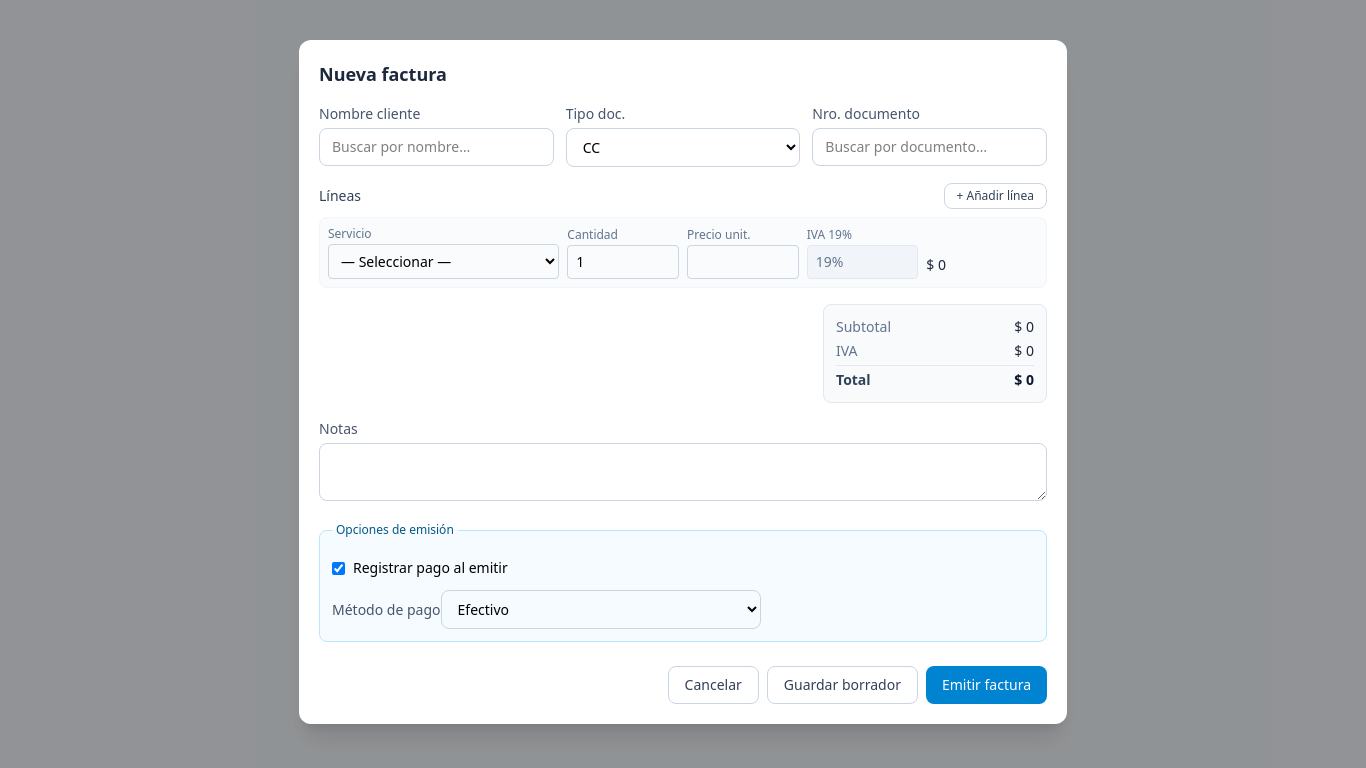
Test: FacturaEditor › muestra error si falla guardarBorradorFactura
Type "Cliente Prueba" into the field with placeholder "Buscar por nombre…".
click(436, 147); type("Cliente Prueba")  # box [319,128,554,166]
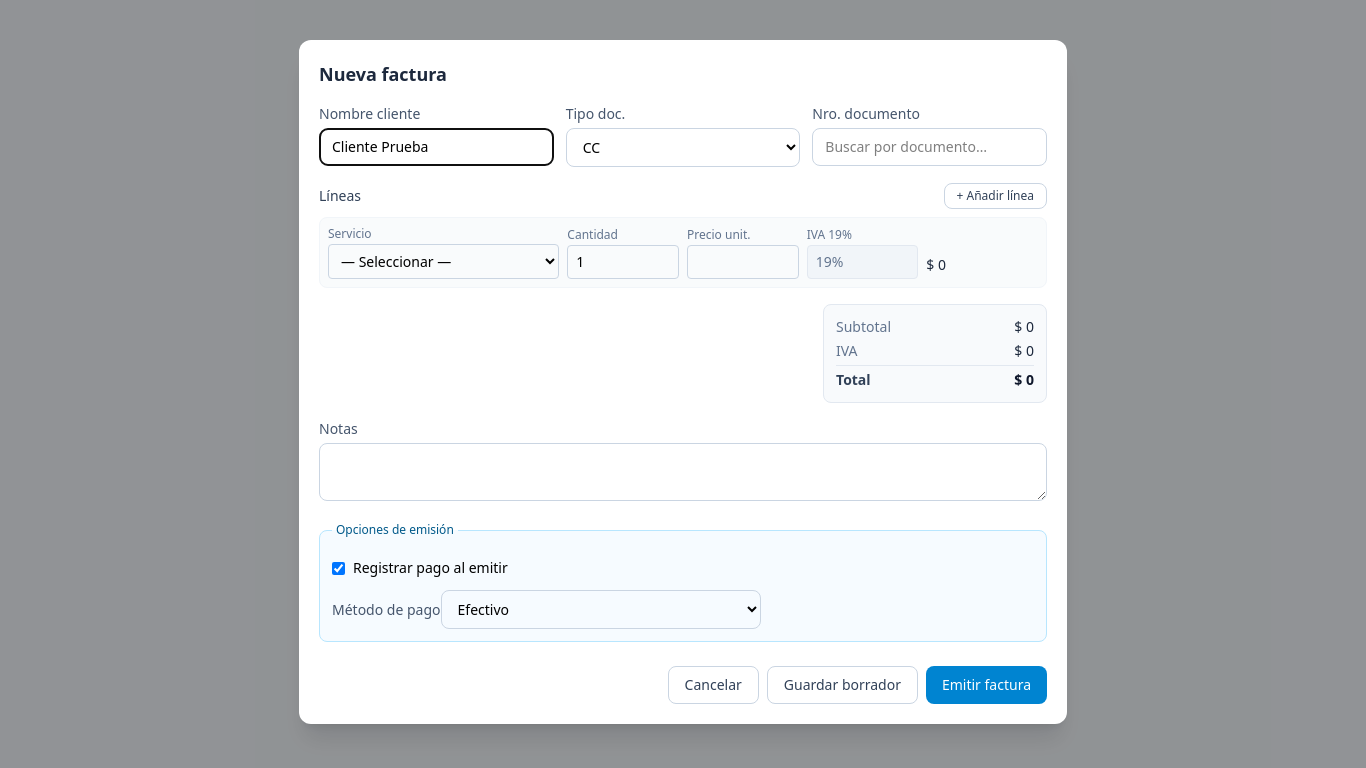
Type "445566" into the field with placeholder "Buscar por documento…".
click(930, 147); type("445566")  # box [812,128,1047,166]
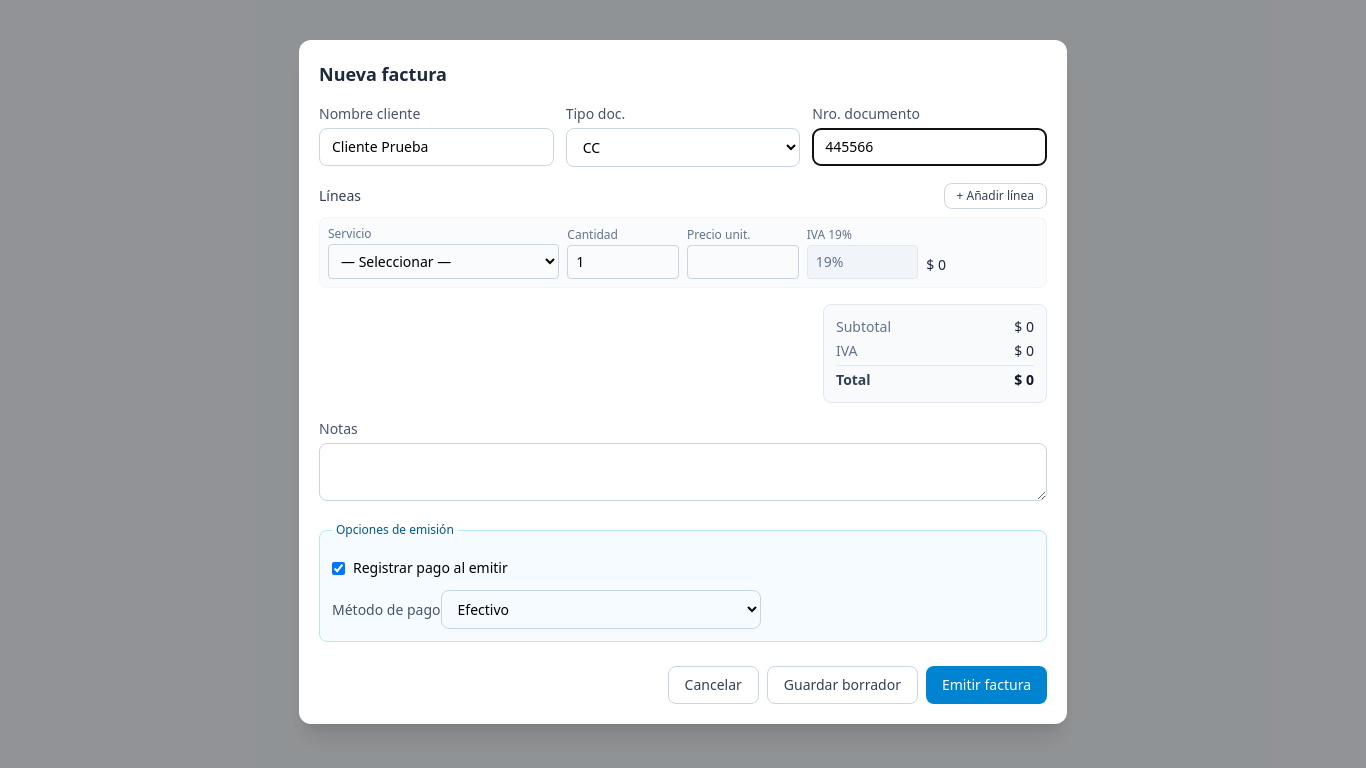
Select "Servicio A" in the dropdown showing "— Seleccionar —" at (444,262), box [328,244,559,279]
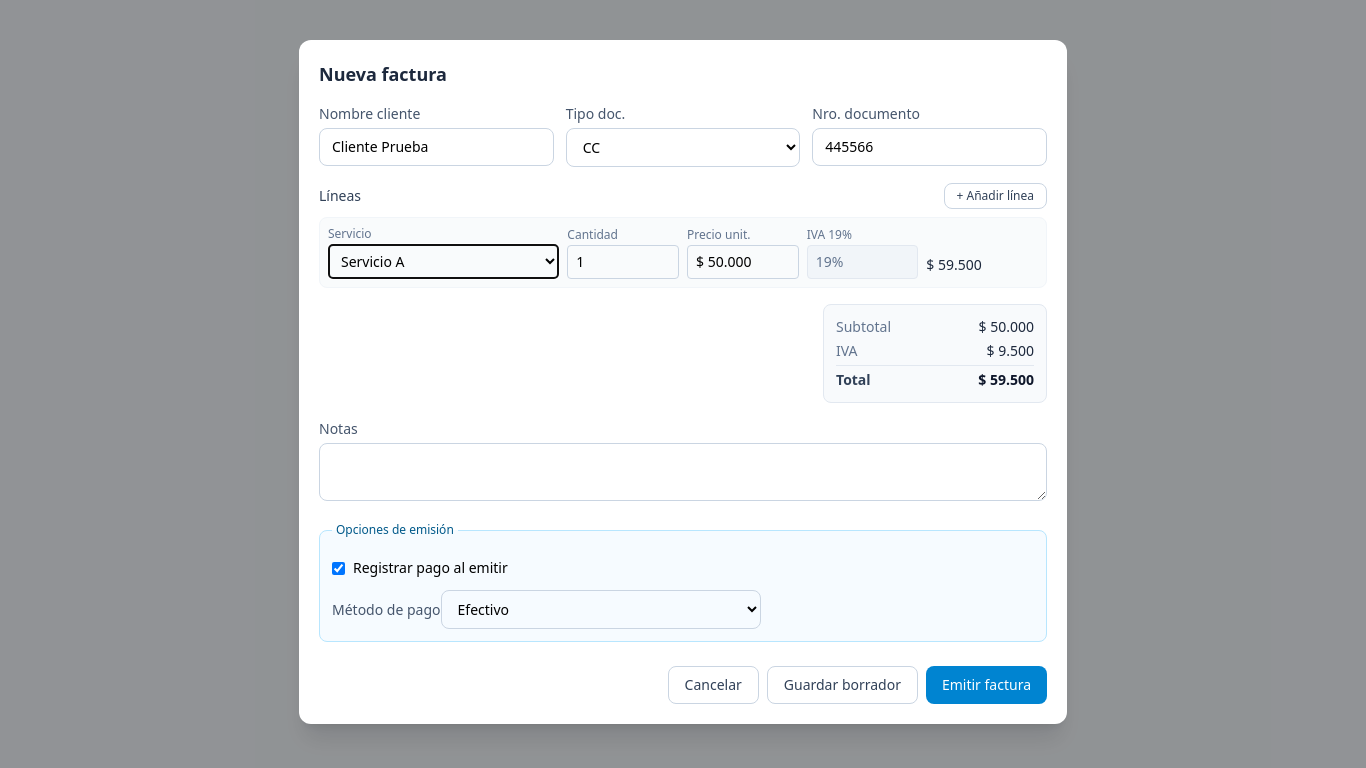
Click the button "Guardar borrador".
click(842, 685)  # box [767,666,918,704]
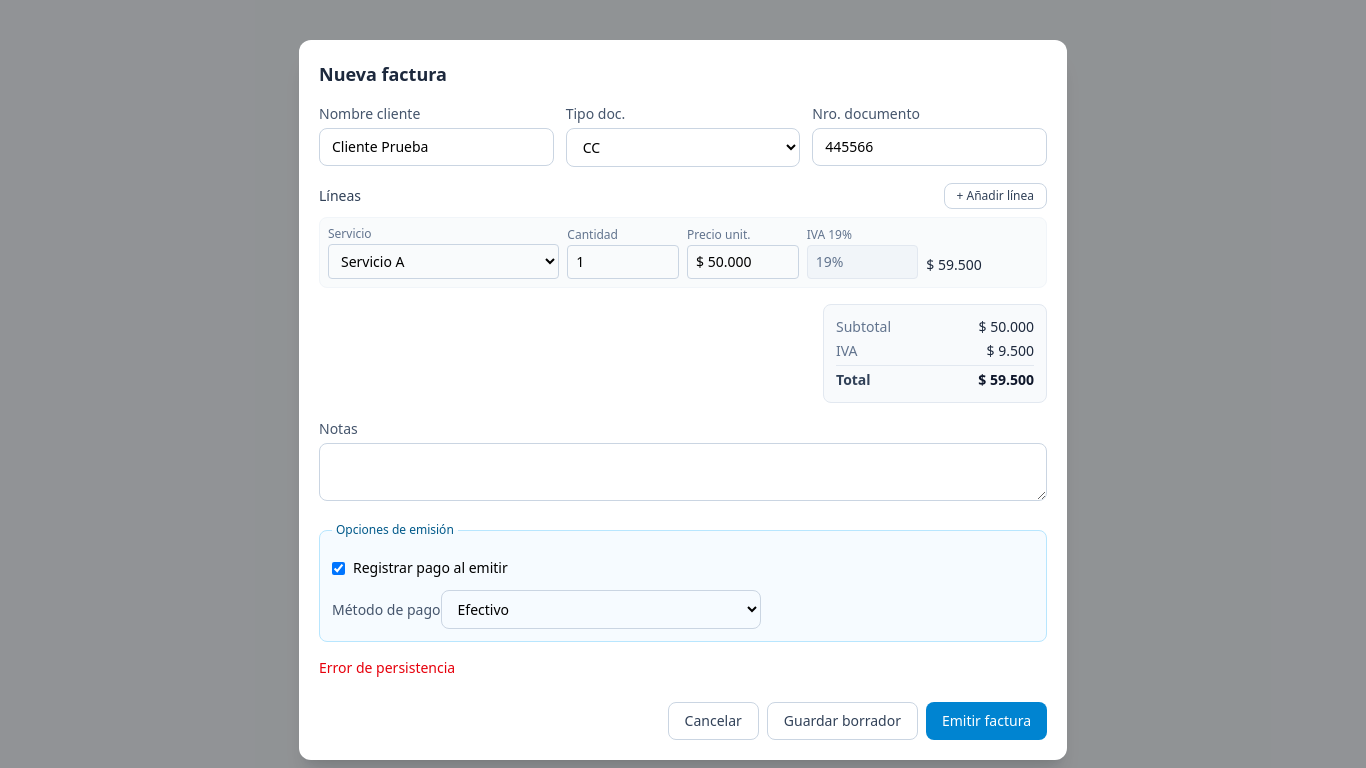
Now the message reads "Error de persistencia", box [319,658,455,677]
